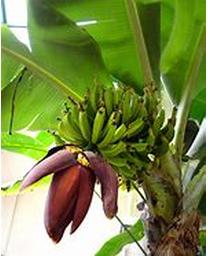banana: (50, 82, 178, 188)
